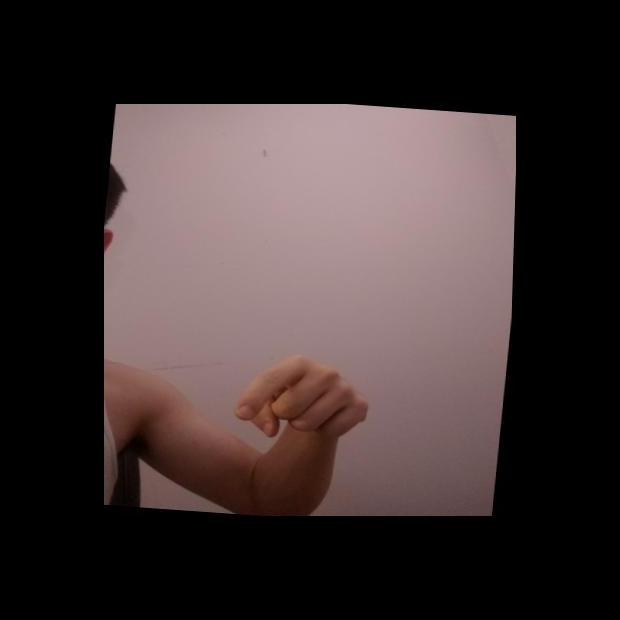Y: (230, 351, 379, 447)
